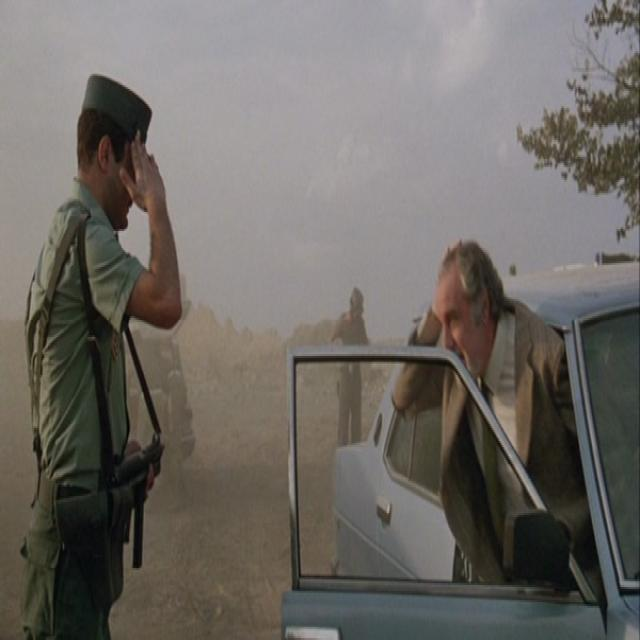rifle: (110, 426, 172, 570)
